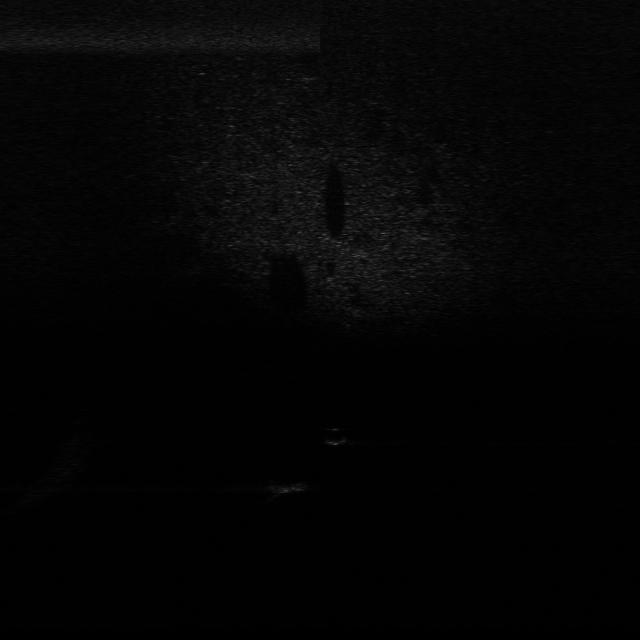ball: (320, 425, 350, 450)
square cage: (267, 477, 328, 497)
